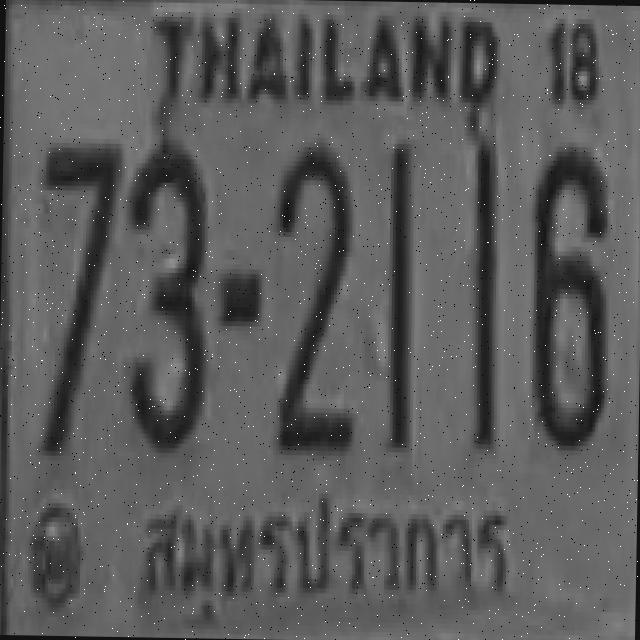1: (466, 138, 496, 446), (383, 139, 411, 447)
2: (269, 140, 352, 453)
3: (122, 137, 205, 446)
6: (526, 141, 607, 446)
7: (34, 137, 118, 451), (38, 138, 117, 357)
SamutPrakan: (135, 475, 517, 640)
